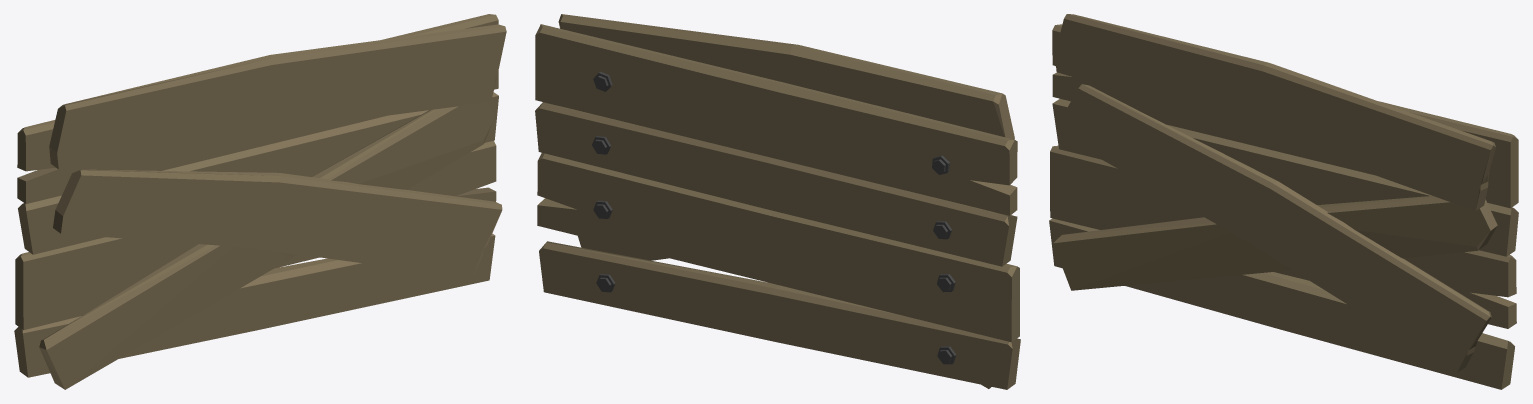
Rendered from closed.fbx.
3 renders of one model, left to right at view 1: azimuth 30°, elevation 25°; view 2: azimuth 150°, elevation 25°; view 3: azimuth 330°, elevation 25°, orthographic. The views are drawn at different scales.
Visible parts, largest first — view 1: closed.002; view 2: closed.002; view 3: closed.002.
Part boxes in pixels (left/top/right/bottom): closed.002: left=14, top=14, right=506, bottom=389; closed.002: left=535, top=14, right=1020, bottom=389; closed.002: left=1049, top=14, right=1518, bottom=389.
Size of the model in its own units: 192 by 112 by 18.31.
